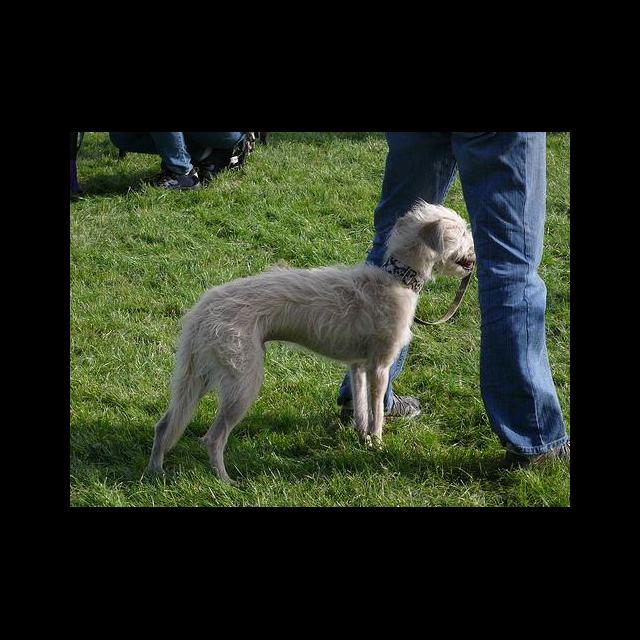Person: (336, 132, 570, 474), (138, 132, 248, 198)
